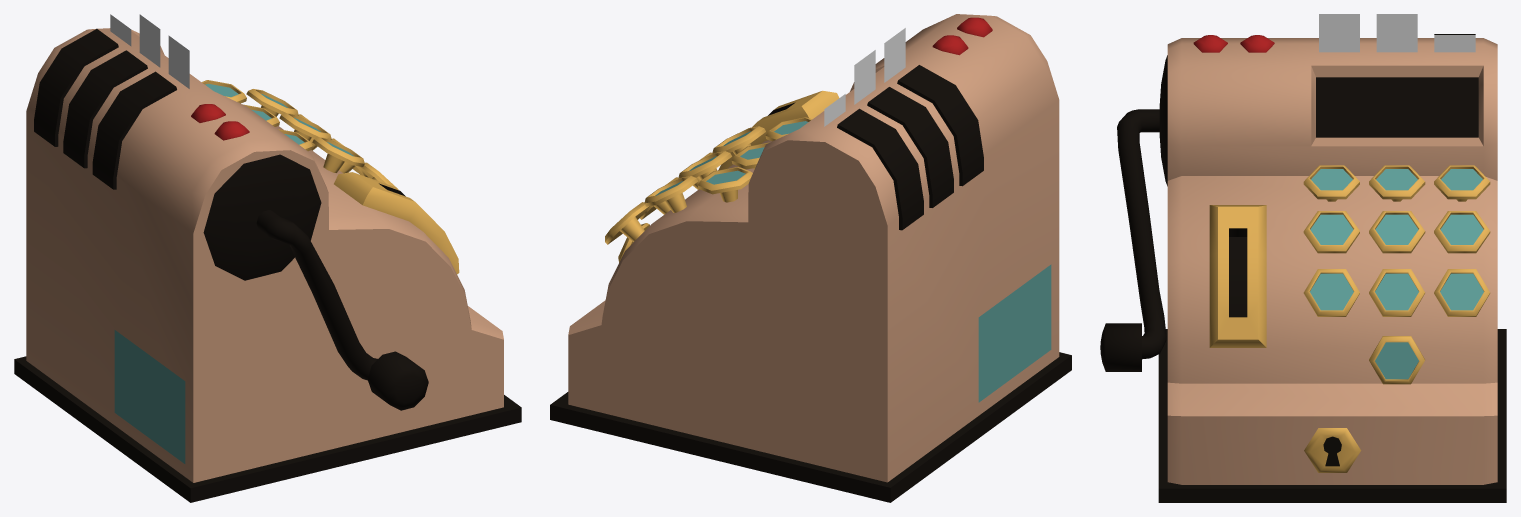
Rendered from 134_cash_register.glb.
The picture shows the model from 3 angles, left to right: view 1: azimuth 30°, elevation 25°; view 2: azimuth 150°, elevation 25°; view 3: azimuth 270°, elevation 25°; orthographic projection. The views are drawn at different scales.
Visible parts, largest first — view 1: cash register, black stripes, base, crank base, crank, blue label, kashes slot, 0, papers back, papers front, 1 2 3, red lights (+1 smaller); view 2: cash register, black stripes, base, blue label, 0, 1 2 3, papers back, kashes slot, 4 5 6, papers front, red lights; view 3: cash register, base, kashes slot, crank, 4 5 6, 0, 1 2 3, papers back, 7 8 9, key, papers front, red lights (+1 smaller).
Boxes of the visible parts, left/top/right/bottom form: cash register: left=26, top=28, right=503, bottom=482; black stripes: left=34, top=29, right=176, bottom=189; base: left=14, top=356, right=521, bottom=502; crank base: left=203, top=154, right=321, bottom=280; crank: left=256, top=210, right=428, bottom=410; blue label: left=114, top=330, right=185, bottom=463; kashes slot: left=334, top=172, right=459, bottom=274; 0: left=246, top=89, right=364, bottom=172; papers back: left=110, top=14, right=189, bottom=88; papers front: left=110, top=15, right=189, bottom=88; 1 2 3: left=202, top=80, right=312, bottom=151; red lights: left=191, top=104, right=249, bottom=140; cash register: left=568, top=14, right=1059, bottom=482; black stripes: left=837, top=65, right=983, bottom=230; base: left=550, top=352, right=1071, bottom=502; blue label: left=978, top=264, right=1051, bottom=402; 0: left=644, top=126, right=765, bottom=212; 1 2 3: left=697, top=117, right=811, bottom=202; papers back: left=824, top=28, right=905, bottom=126; kashes slot: left=718, top=90, right=839, bottom=170; 4 5 6: left=605, top=152, right=712, bottom=244; papers front: left=824, top=28, right=905, bottom=125; red lights: left=932, top=17, right=992, bottom=55; cash register: left=1167, top=38, right=1497, bottom=484; base: left=1158, top=329, right=1506, bottom=502; kashes slot: left=1209, top=205, right=1266, bottom=347; crank: left=1100, top=109, right=1166, bottom=371; 4 5 6: left=1303, top=269, right=1490, bottom=316; 0: left=1303, top=211, right=1490, bottom=253; 1 2 3: left=1303, top=165, right=1490, bottom=201; papers back: left=1319, top=14, right=1475, bottom=52; 7 8 9: left=1369, top=336, right=1424, bottom=384; key: left=1304, top=428, right=1361, bottom=472; papers front: left=1319, top=14, right=1475, bottom=52; red lights: left=1193, top=35, right=1274, bottom=52.
Bounding box in the file's own units: 0.6963 × 0.75 × 0.75.
